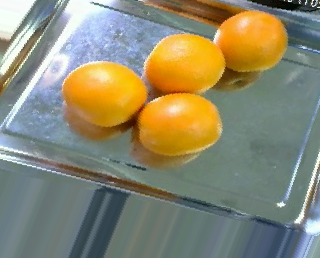Orange: (61, 59, 146, 125), (137, 92, 223, 155), (143, 34, 225, 97), (212, 9, 289, 74)
